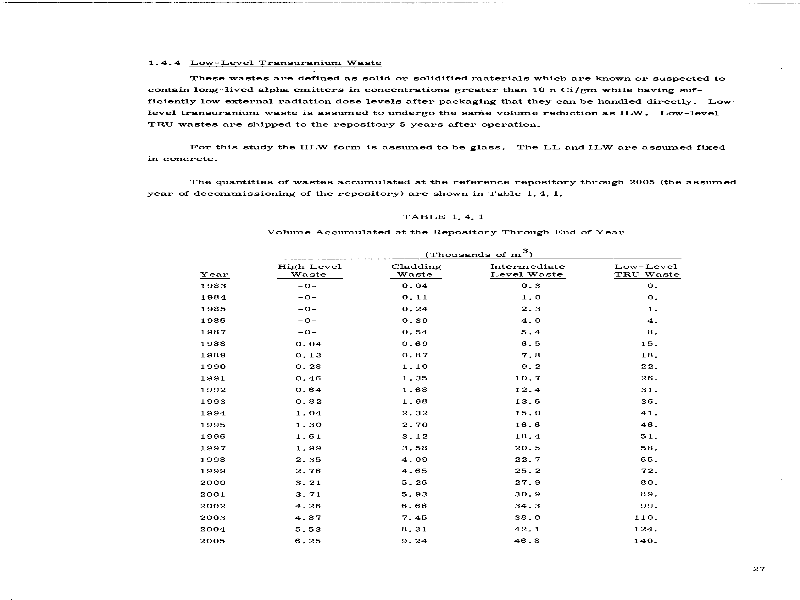table: (187, 247, 693, 562)
